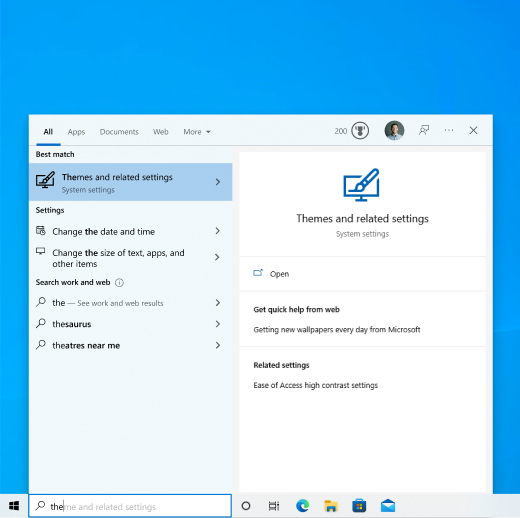search_box: (29, 492, 233, 516)
start_bar: (2, 494, 24, 515)
